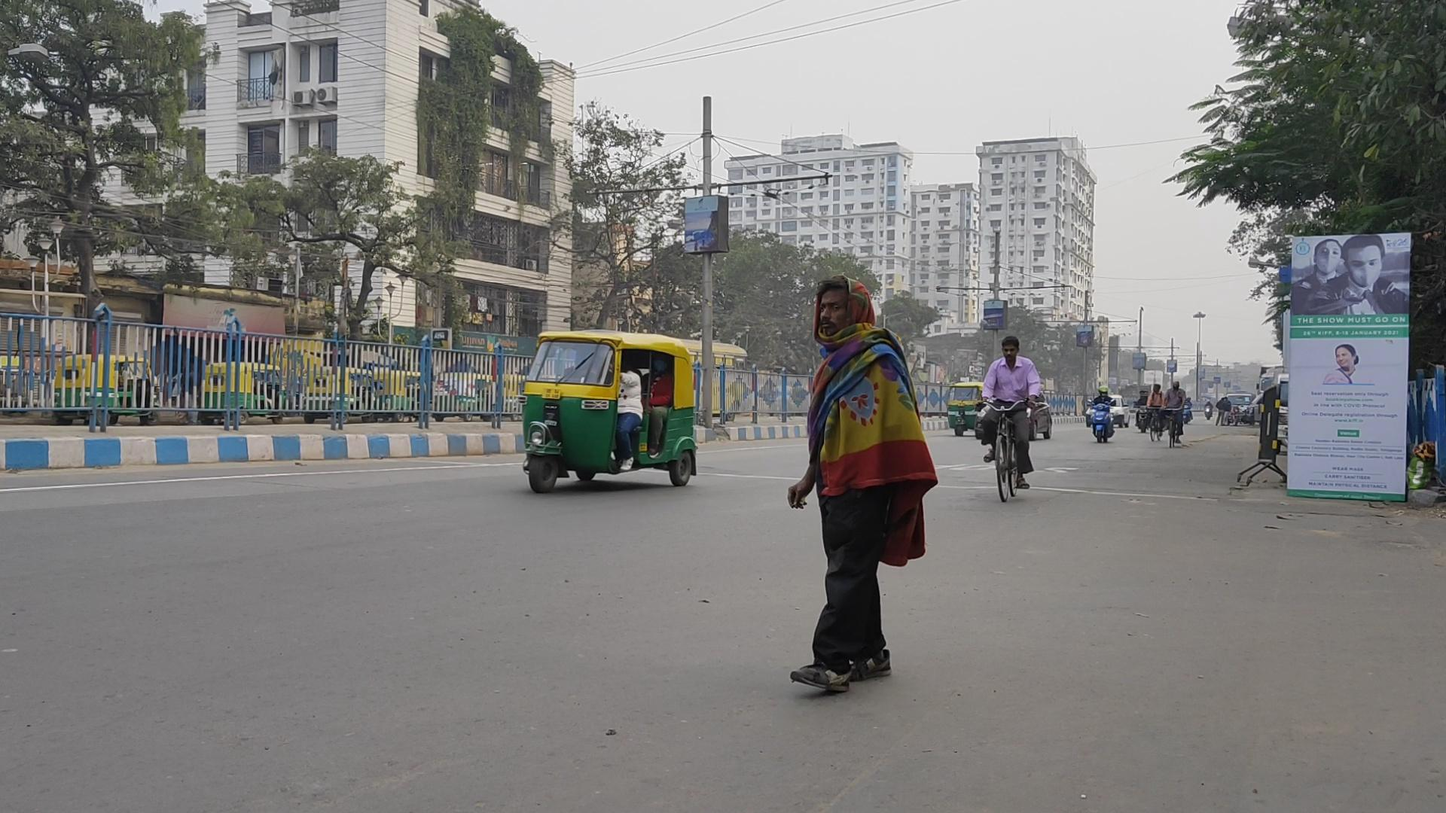Auto: (517, 328, 699, 494), (947, 382, 988, 437)
bike: (977, 335, 1042, 501), (1086, 385, 1118, 443), (1162, 380, 1186, 447), (1147, 383, 1167, 442), (1133, 390, 1152, 434), (1182, 396, 1193, 425), (1203, 398, 1213, 421)
car: (975, 388, 1053, 442), (1086, 394, 1130, 428), (1225, 391, 1256, 426)
